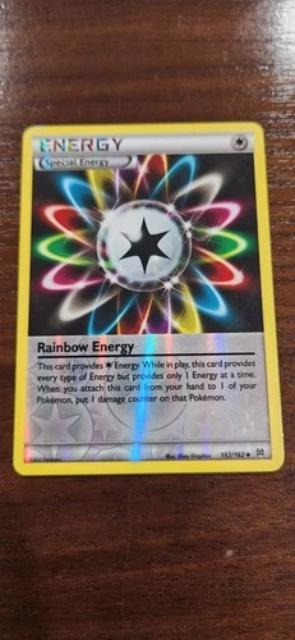Card: (7, 117, 290, 481)
Name: (32, 336, 142, 359)
